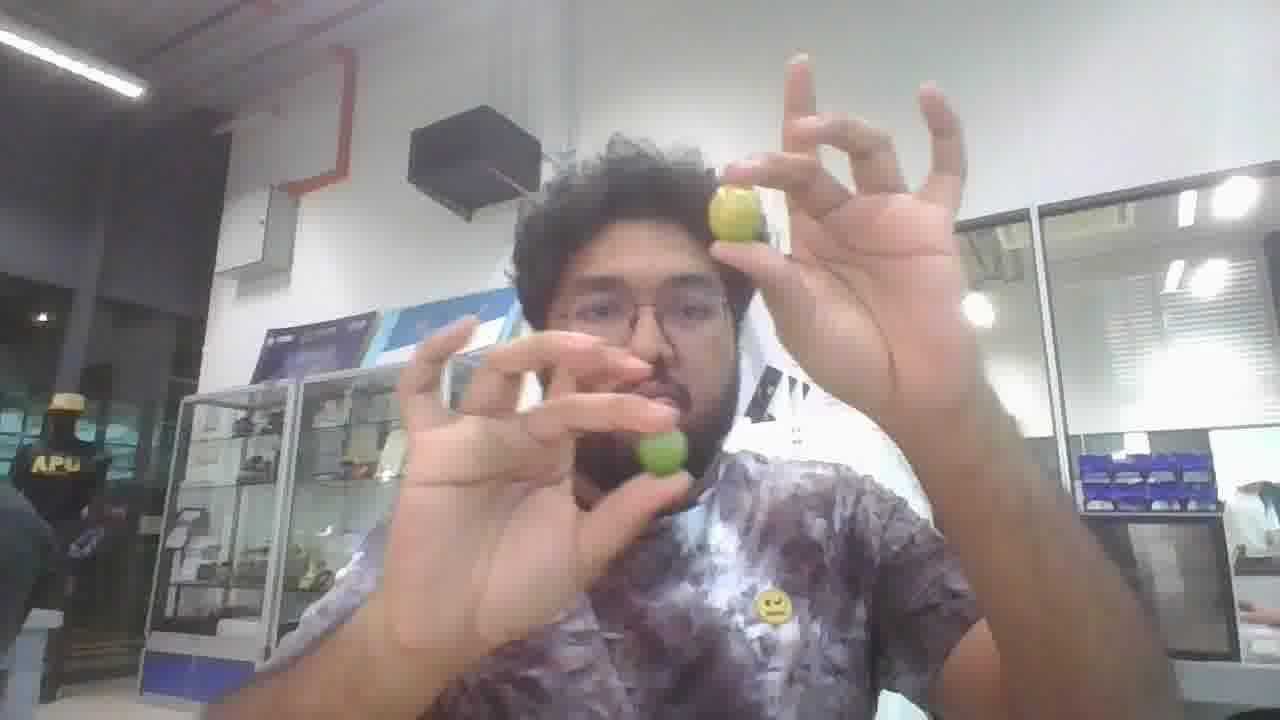green_cherry_tomato: (709, 186, 764, 242), (636, 431, 688, 475)
